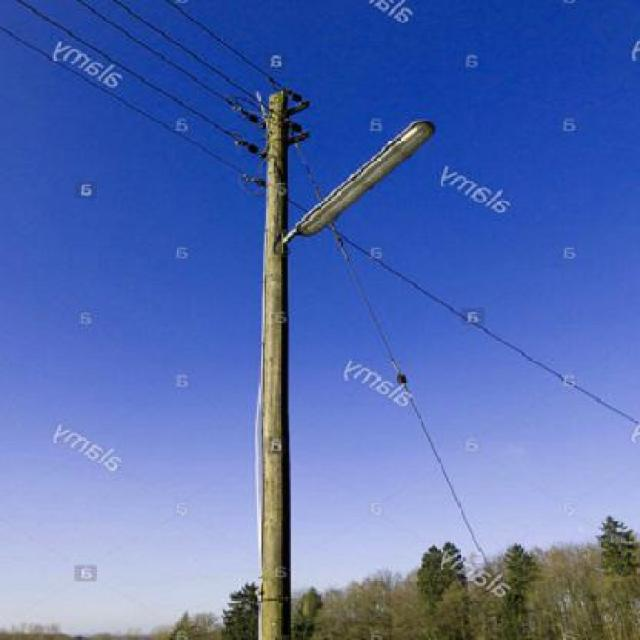pole: (202, 66, 352, 639)
